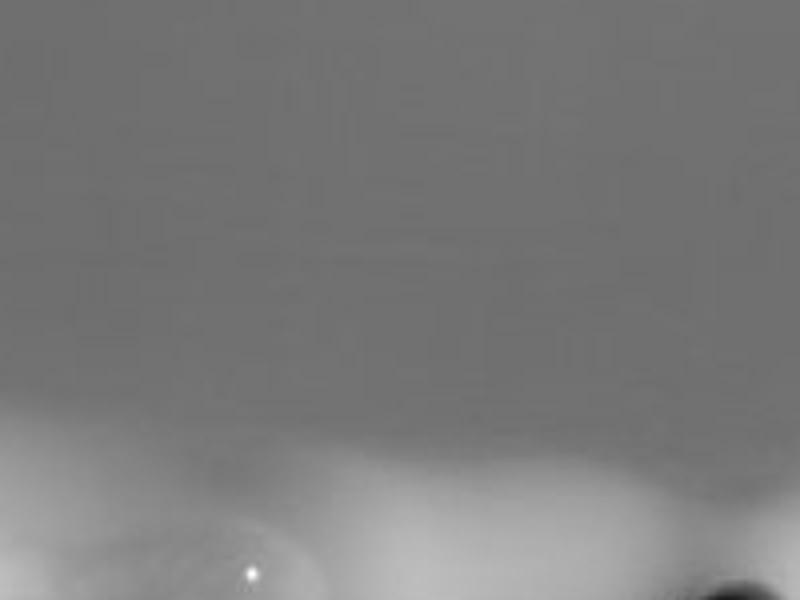defect: (702, 581, 776, 600)
